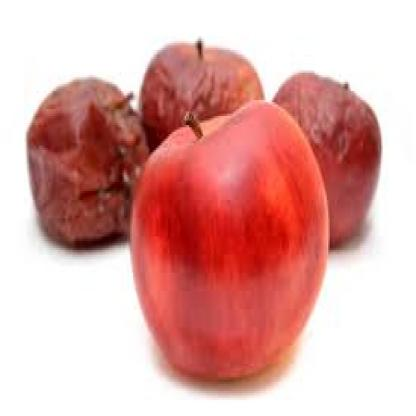apple: (126, 100, 331, 384)
damaged_apple: (276, 69, 390, 252), (26, 80, 139, 250), (135, 36, 266, 178)
